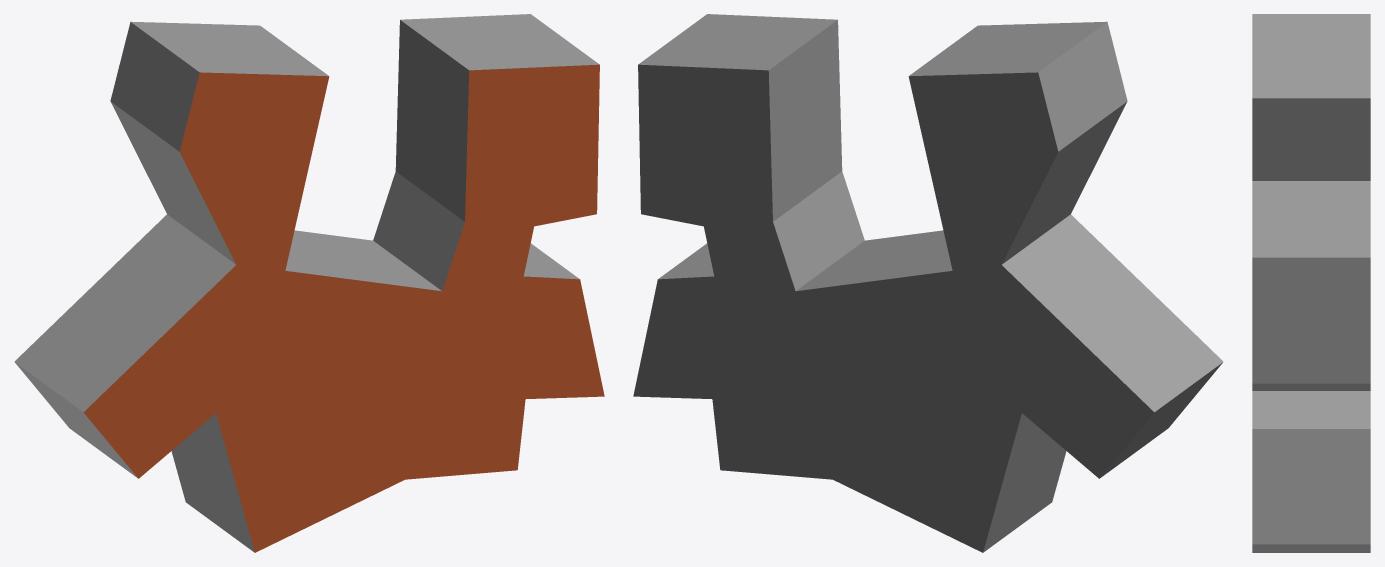
File: construction_2114_assumed_A_Casa_h6m.obj
The picture shows the model from 3 angles, left to right: view 1: azimuth 30°, elevation 25°; view 2: azimuth 150°, elevation 25°; view 3: azimuth 270°, elevation 25°; orthographic projection. The views are drawn at different scales.
Parts seen in each view (by area): view 1: construction_2114_assumed_A_Casa; view 2: construction_2114_assumed_A_Casa; view 3: construction_2114_assumed_A_Casa.
Boxes of the visible parts, box(x1,y1,x2,y2) form: construction_2114_assumed_A_Casa: box(14, 14, 604, 552); construction_2114_assumed_A_Casa: box(633, 14, 1223, 552); construction_2114_assumed_A_Casa: box(1252, 14, 1370, 552).
Size of the model in its own units: 26.08 by 23.62 by 6.
